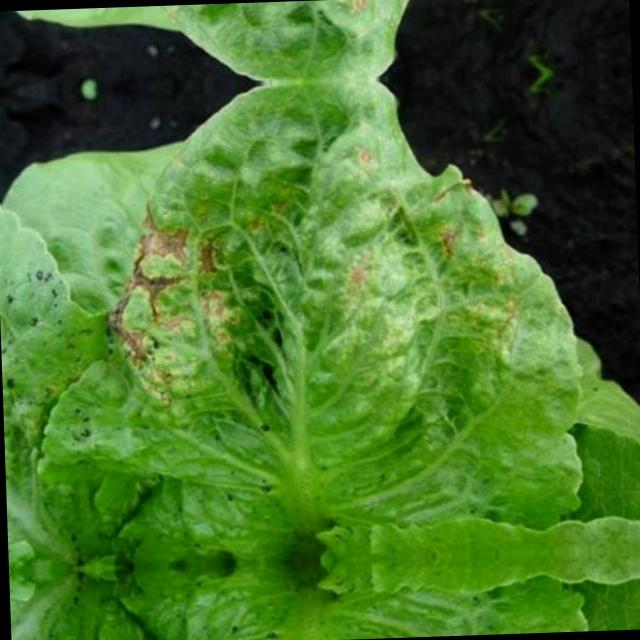Lettuce - Anthracnose: (0, 104, 513, 568), (10, 553, 516, 640), (0, 0, 495, 60)
